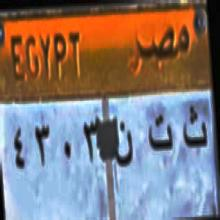0: (61, 135, 74, 166)
3: (31, 115, 52, 168), (82, 111, 100, 170)
4: (14, 117, 26, 176)
noon: (114, 112, 136, 170)
taa: (146, 111, 174, 155)
thaa: (180, 100, 209, 161)
